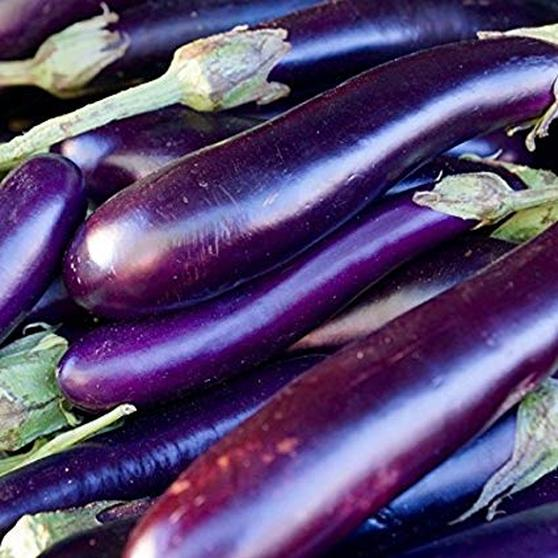eggplant: (45, 32, 558, 311)
